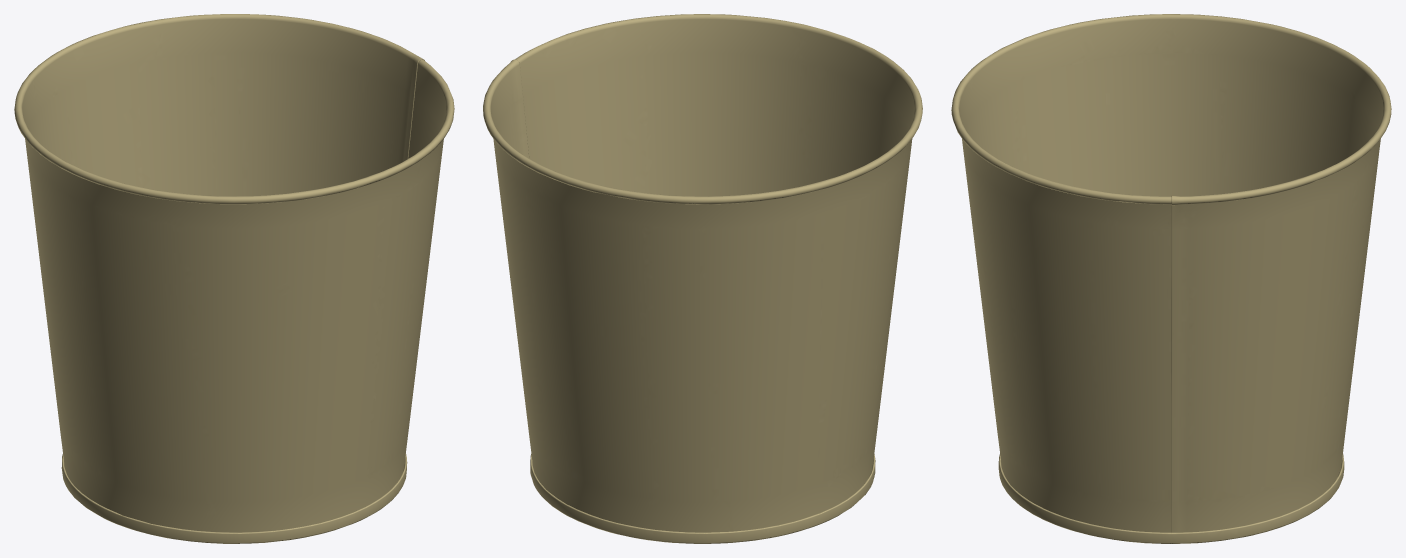
The model's file is daidai_osonka_doniczki_90359419.glb.
3 views of the same model, side by side, from view 1: azimuth 30°, elevation 25°; view 2: azimuth 150°, elevation 25°; view 3: azimuth 270°, elevation 25° (orthographic).
Visible parts, largest first — view 1: daidai_osonka_doniczki_90359419; view 2: daidai_osonka_doniczki_90359419; view 3: daidai_osonka_doniczki_90359419.
Part boxes in pixels (x1,y1,x2,y2): daidai_osonka_doniczki_90359419: [14, 14, 454, 543]; daidai_osonka_doniczki_90359419: [483, 14, 922, 543]; daidai_osonka_doniczki_90359419: [951, 14, 1391, 543].
Size of the model in its own units: 0.2183 by 0.2004 by 0.2179.
Materials: 1 (1 with a texture image).
